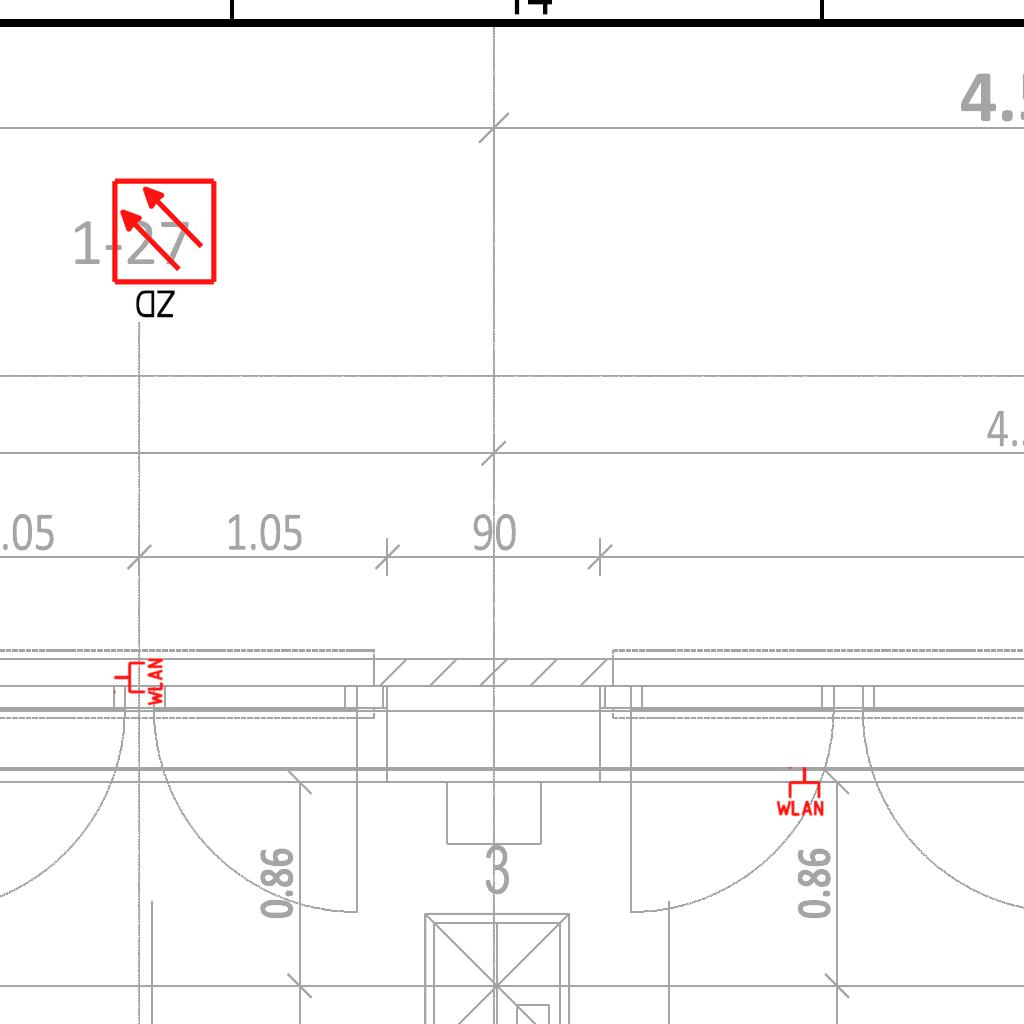WLAN: (112, 656, 164, 708), (774, 765, 826, 817)
ZD_Melder_in_Zwischendecke_mit_Revisionsoeffnung_mind_40_x_40_cm: (109, 176, 223, 325)
